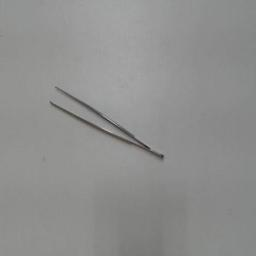Gillies Toothed Dissector: (50, 79, 166, 163)
